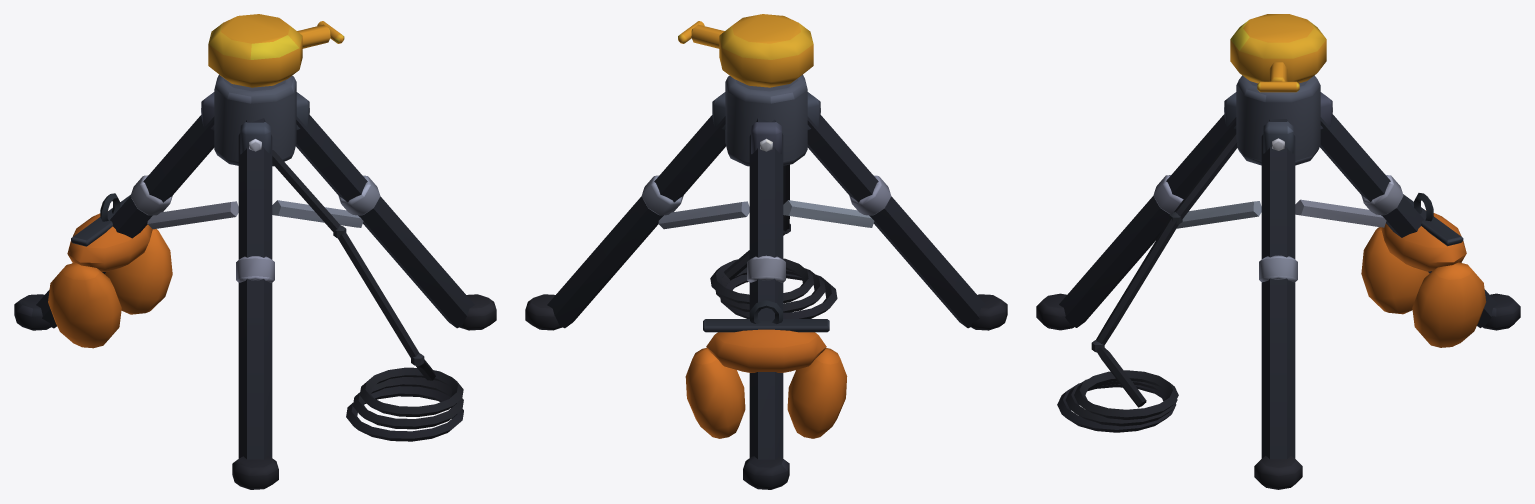
File: SM_Station_StageLight_Base.fbx
3 renders of one model, left to right at view 1: azimuth 30°, elevation 25°; view 2: azimuth 150°, elevation 25°; view 3: azimuth 270°, elevation 25°, orthographic.
Parts seen in each view (by area): view 1: SM_Station_StageLight_Base; view 2: SM_Station_StageLight_Base; view 3: SM_Station_StageLight_Base.
Part boxes in pixels (left/top/right/bottom): SM_Station_StageLight_Base: left=14, top=14, right=496, bottom=489; SM_Station_StageLight_Base: left=525, top=14, right=1007, bottom=489; SM_Station_StageLight_Base: left=1036, top=14, right=1520, bottom=489.
Bounding box in the file's own units: 72.69 × 64.1 × 80.81.
